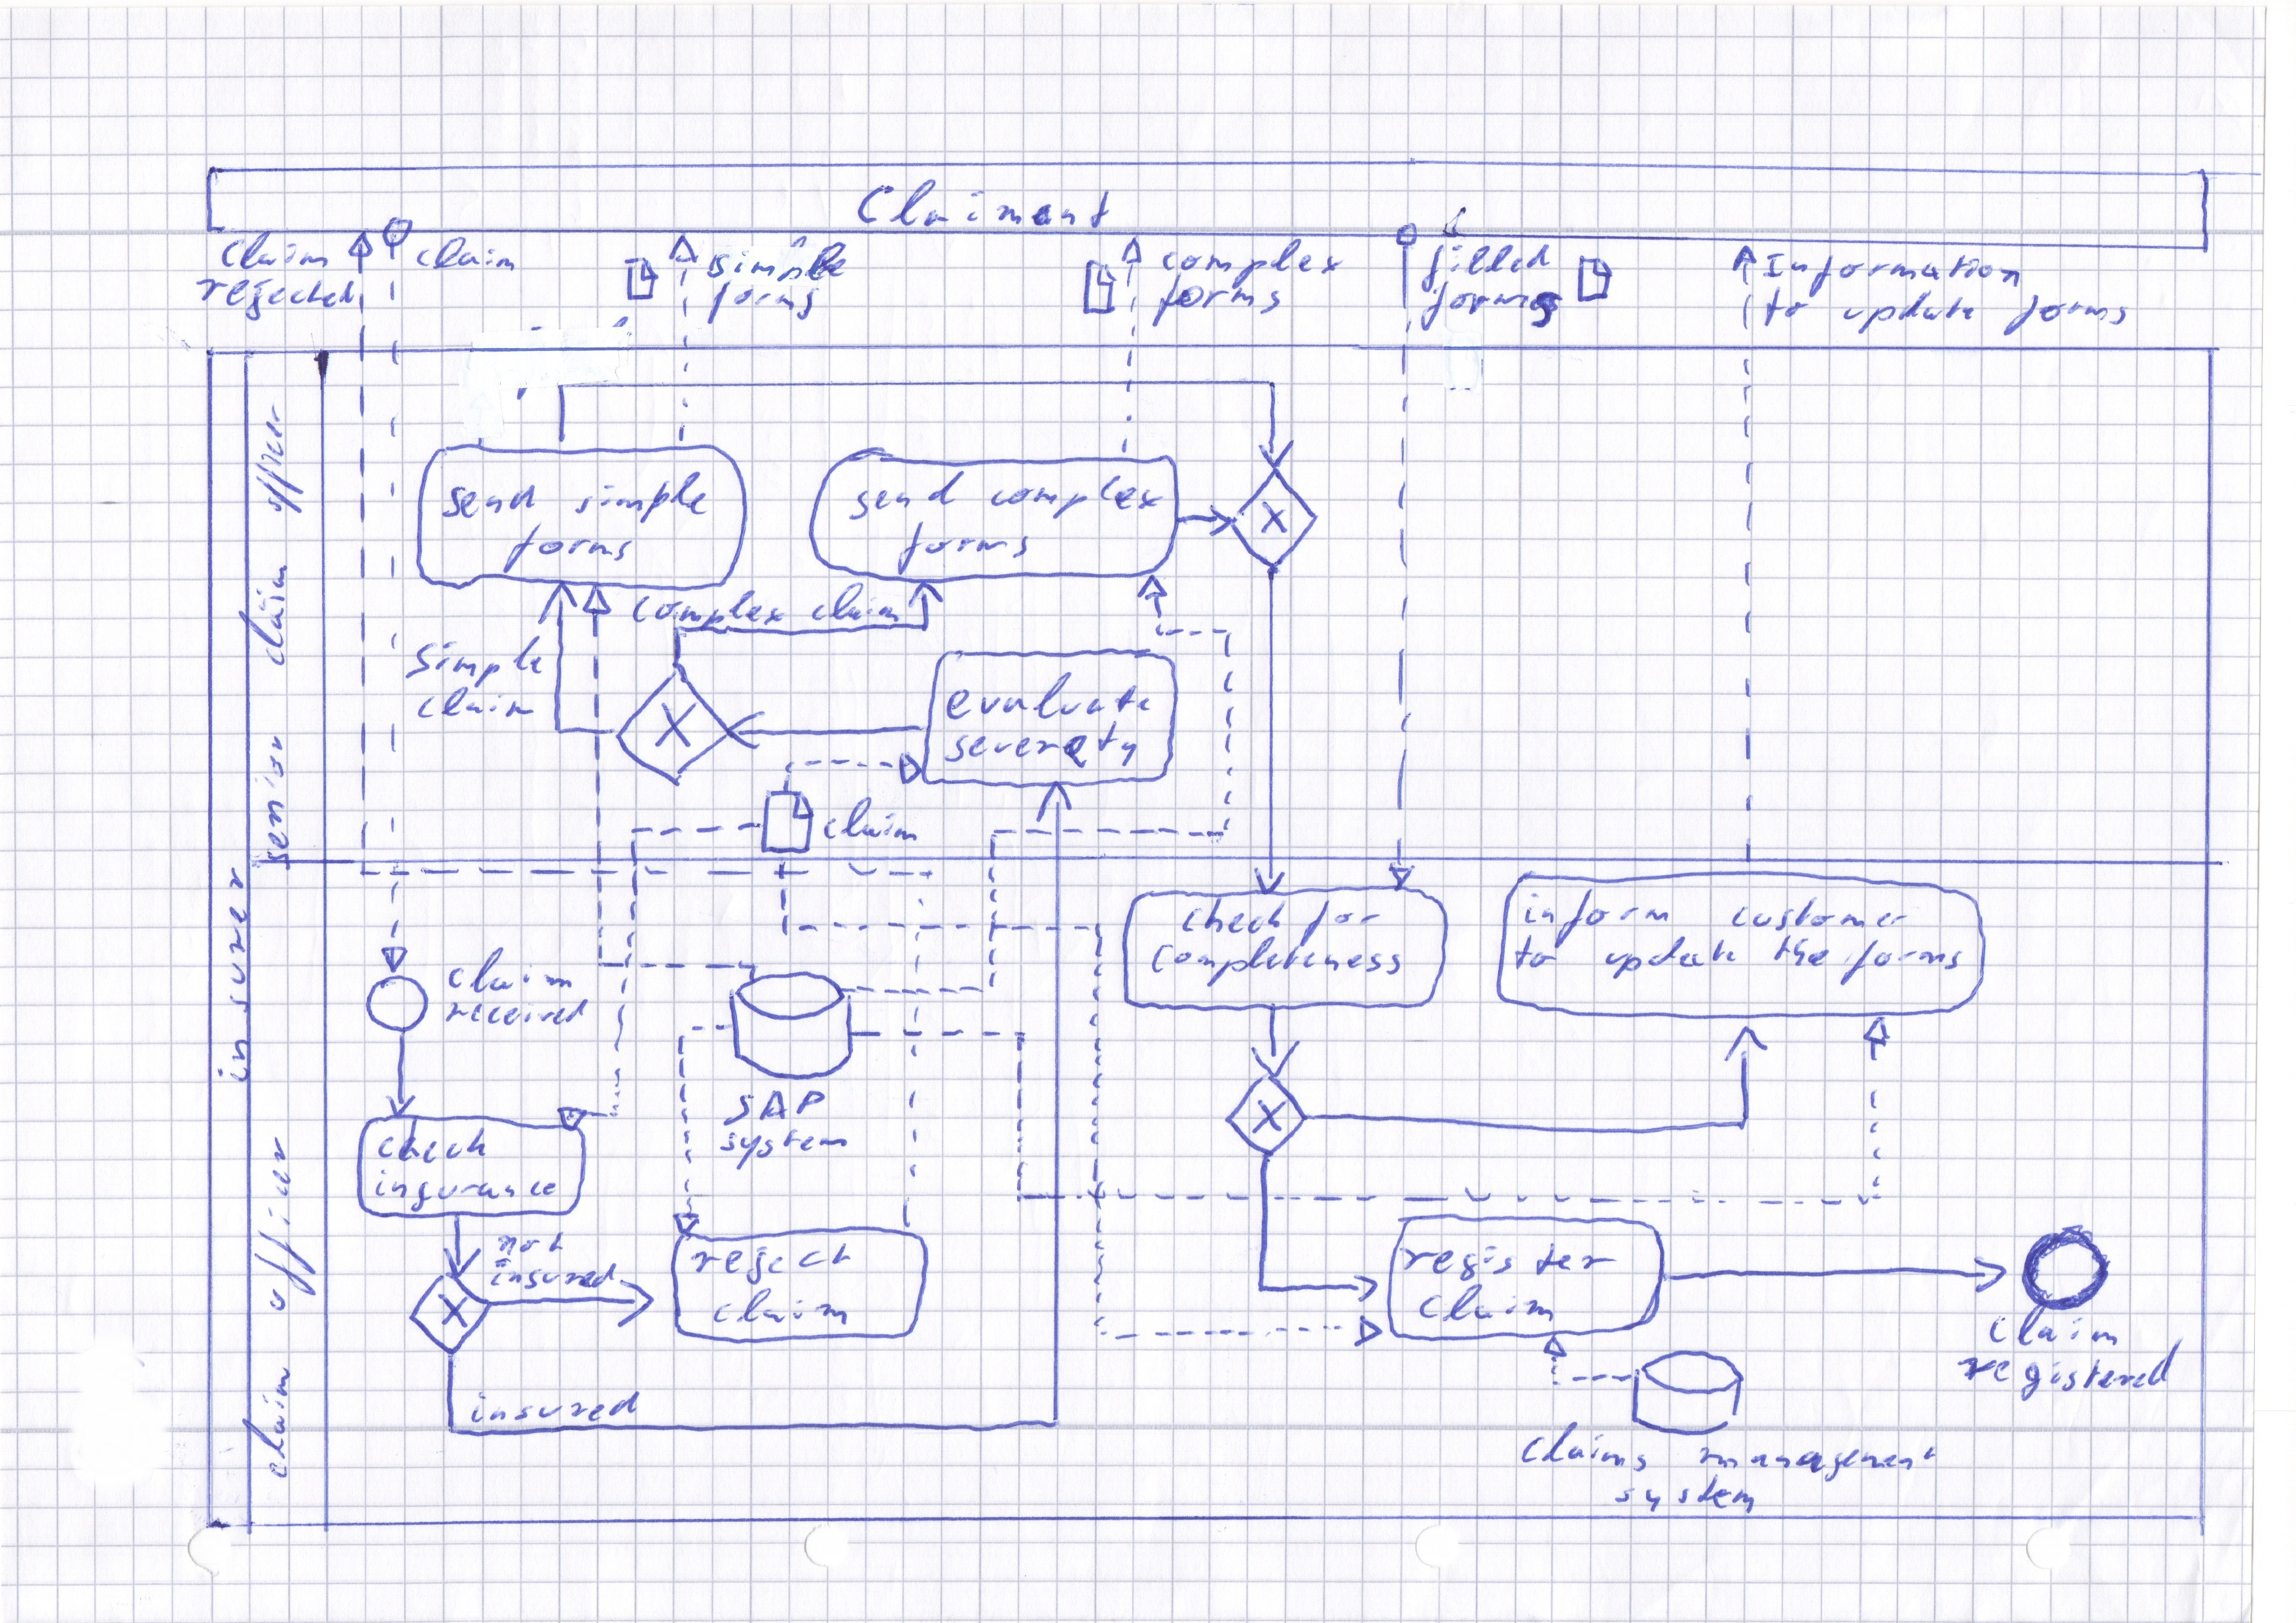Claim: (218, 227, 351, 278)
Claimant: (861, 176, 1137, 237)
Completeness: (1151, 940, 1407, 984)
Information: (1730, 246, 2036, 290)
SAP: (734, 1087, 827, 1128)
Simple: (704, 241, 861, 288)
check: (374, 1124, 490, 1165), (1179, 898, 1289, 938)
claim: (409, 682, 548, 727), (441, 952, 585, 996), (1416, 1286, 1563, 1328), (1985, 1310, 2124, 1353), (711, 1291, 854, 1331), (251, 546, 299, 667), (411, 228, 523, 278), (819, 796, 917, 847), (258, 1365, 299, 1481), (805, 581, 903, 629)
claims: (1516, 1421, 1653, 1477)
complex: (1152, 232, 1354, 281), (986, 472, 1168, 523), (622, 585, 785, 632)
customer: (1727, 894, 1915, 940)
evaluate: (947, 678, 1154, 725)
filled: (1416, 241, 1565, 278)
for: (1307, 901, 1383, 943)
forms: (1418, 281, 1569, 332), (1149, 274, 1288, 321), (696, 279, 827, 327), (899, 525, 1029, 569), (509, 525, 634, 567), (1850, 934, 1964, 978), (2013, 290, 2127, 332)
inform: (1507, 880, 1692, 936)
insurance: (372, 1172, 560, 1207)
insured: (471, 1389, 639, 1428), (485, 1258, 629, 1295)
insurer: (207, 852, 246, 1089)
management: (1695, 1435, 1939, 1479)
not: (492, 1226, 567, 1252)
officer: (264, 1133, 304, 1314), (251, 402, 299, 518)
received: (450, 996, 590, 1033)
register: (1405, 1240, 1616, 1280)
registered: (1960, 1349, 2185, 1396)
reject: (699, 1226, 852, 1282)
rejected: (183, 274, 357, 314)
send: (847, 474, 964, 522), (437, 476, 538, 518)
senior: (251, 727, 299, 869)
severity: (943, 724, 1144, 769)
simple: (411, 629, 552, 682), (567, 472, 717, 522)
system: (1616, 1474, 1757, 1512), (718, 1124, 848, 1165)
the: (1769, 934, 1834, 973)
to: (1507, 934, 1563, 980), (1757, 286, 1809, 334)
update: (1836, 288, 1980, 330), (1597, 934, 1743, 975)
